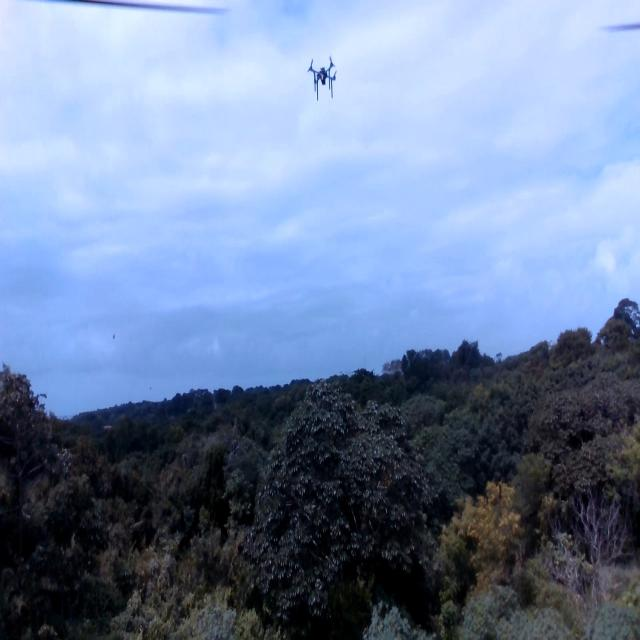-uav-: (301, 56, 356, 105)
